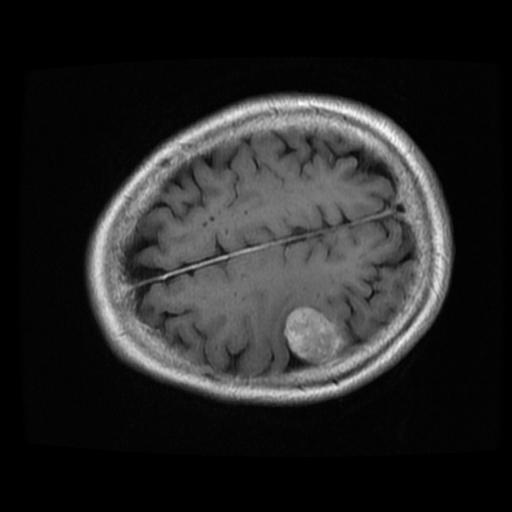meningioma: (284, 306, 337, 364)
